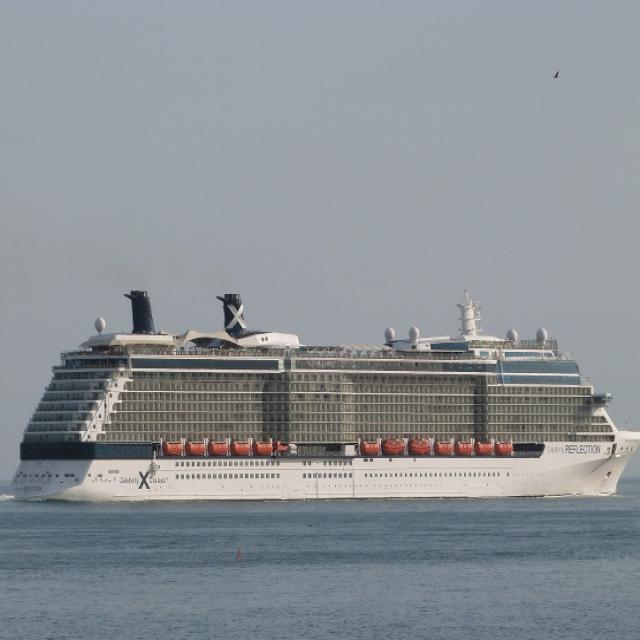cruises: (10, 288, 640, 509)
